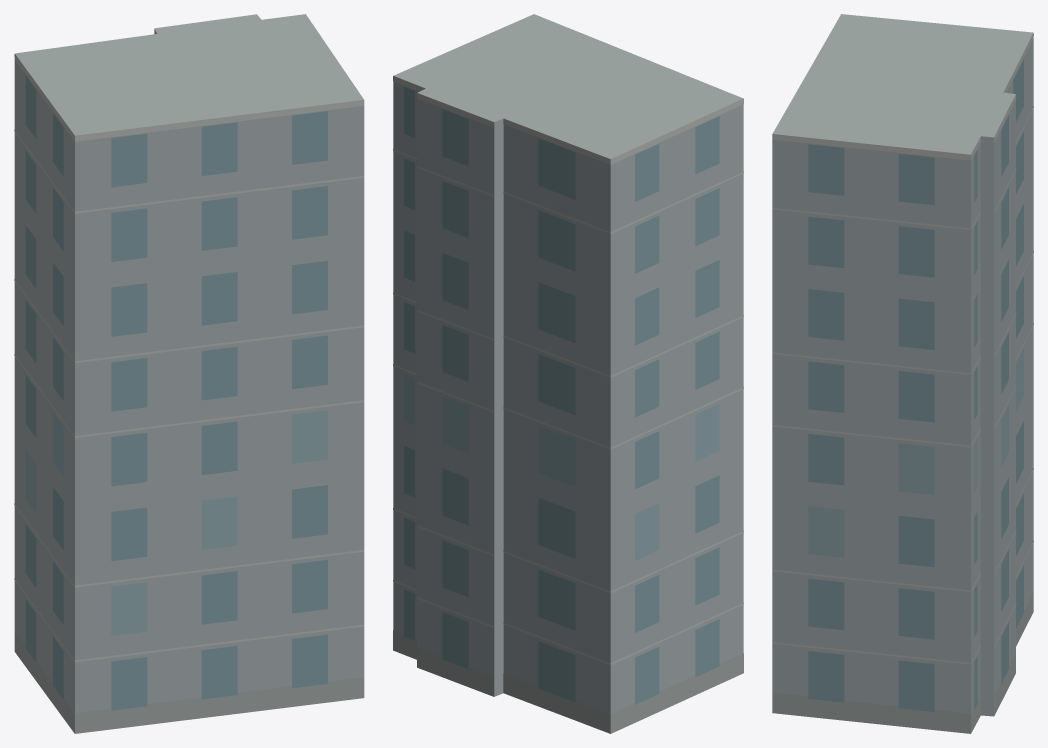
File: survey-upis-32664638.glb
3 views of the same model, side by side, from view 1: azimuth 30°, elevation 25°; view 2: azimuth 150°, elevation 25°; view 3: azimuth 270°, elevation 25° (orthographic). The views are drawn at different scales.
Parts seen in each view (by area): view 1: survey-upis-32664638.tmp; view 2: survey-upis-32664638.tmp; view 3: survey-upis-32664638.tmp.
Boxes of the visible parts, <box> form: survey-upis-32664638.tmp: <box>14,14,364,733</box>; survey-upis-32664638.tmp: <box>393,14,743,733</box>; survey-upis-32664638.tmp: <box>772,14,1033,733</box>.
Bounding box in the file's own units: 12.74 × 24.4 × 10.
